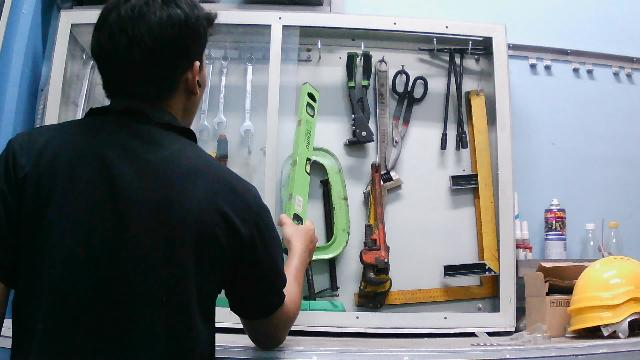water_pass: (282, 77, 323, 252)
